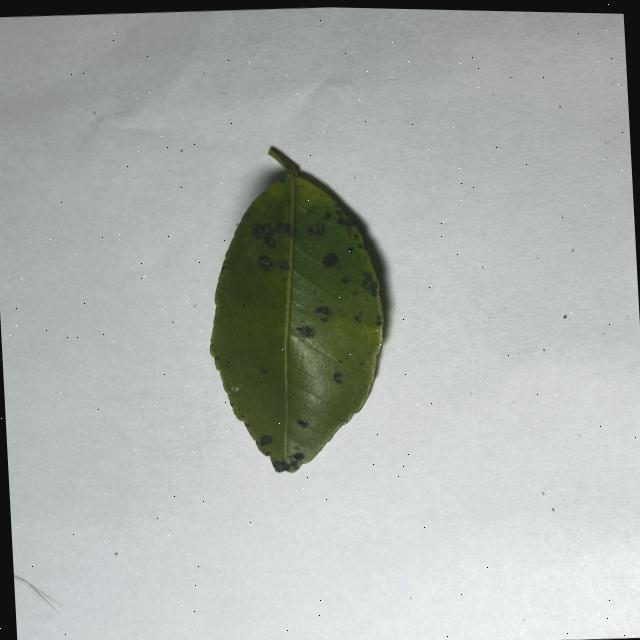sooty_mold: (210, 149, 383, 471)
